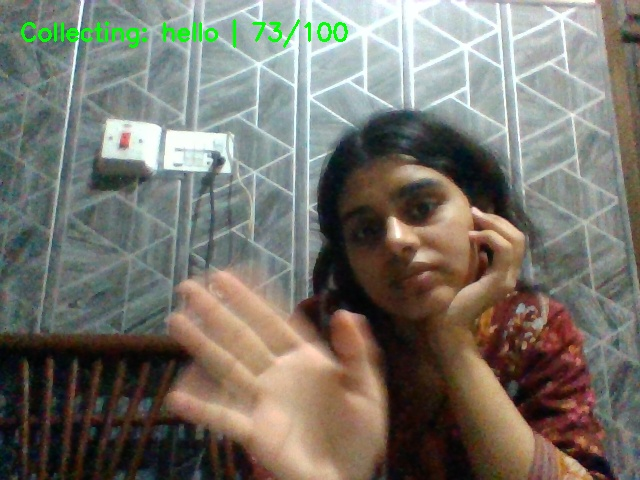hello: (151, 260, 393, 477)
